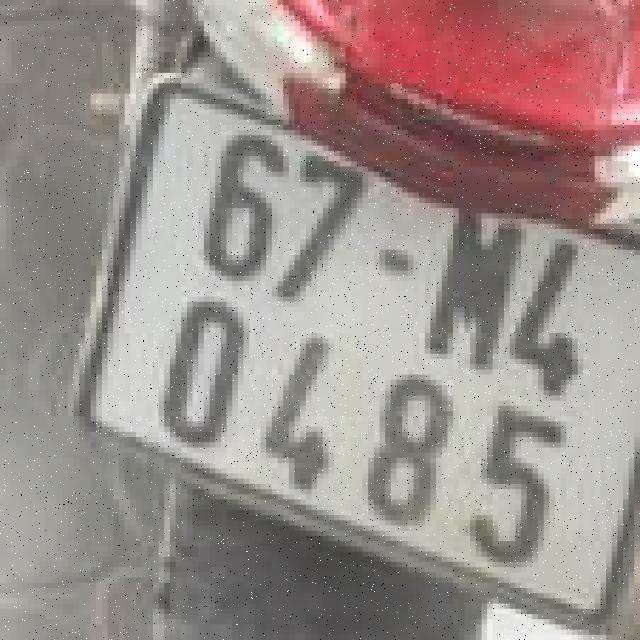0: (140, 279, 267, 468)
4: (490, 210, 615, 426), (248, 315, 356, 508)
5: (453, 381, 594, 583)
6: (187, 107, 299, 307)
7: (256, 139, 392, 321)
8: (351, 351, 481, 546)
M: (417, 185, 538, 386)
